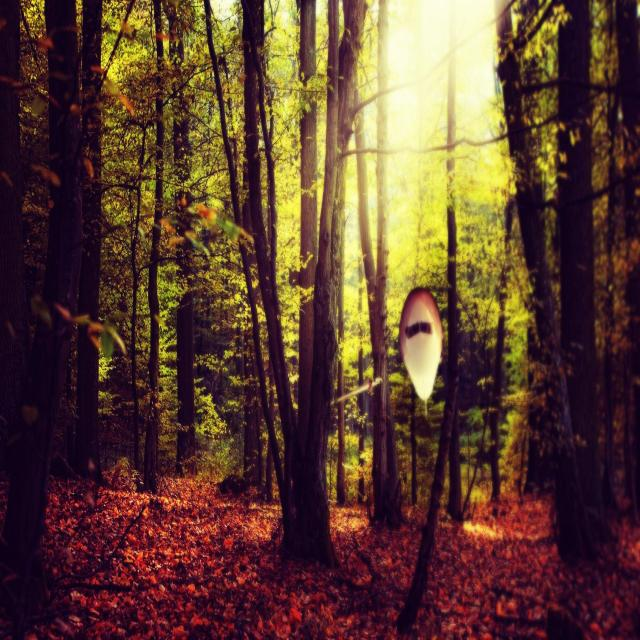airplane: (330, 285, 443, 404)
